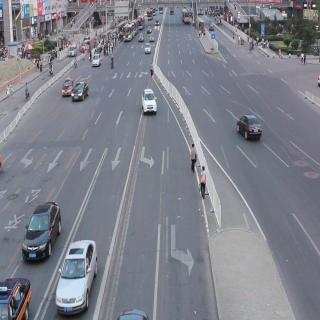BigCar: (122, 23, 134, 43)
Car: (53, 234, 97, 317), (23, 198, 59, 262), (237, 112, 267, 149), (137, 79, 162, 118), (60, 73, 76, 99), (70, 82, 90, 100), (87, 50, 103, 70), (145, 25, 155, 37), (144, 40, 151, 56)
